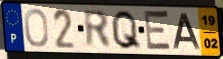2: (52, 7, 78, 50)
A: (172, 12, 203, 51)
E: (143, 8, 174, 54)
O: (23, 7, 50, 48)
Q: (110, 9, 143, 51)
R: (82, 8, 114, 50)
